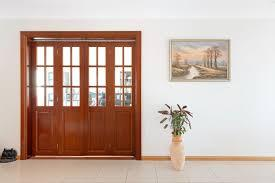door: (30, 36, 63, 156), (109, 39, 142, 158), (83, 35, 110, 155), (64, 34, 84, 157)
